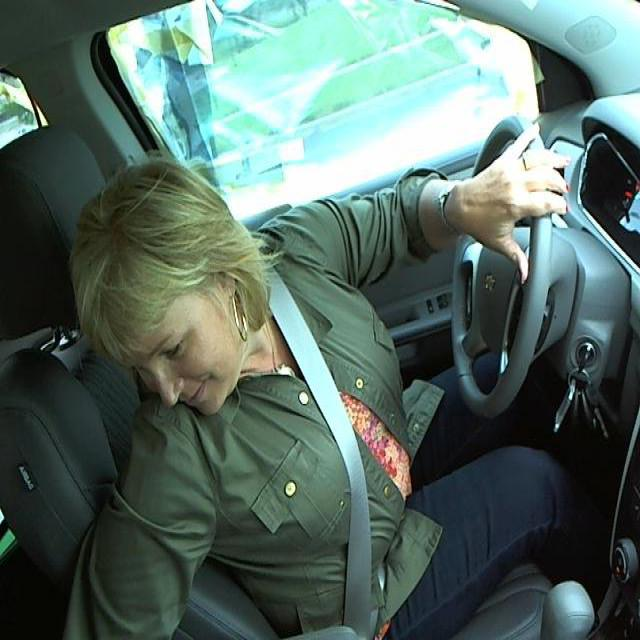seatbelt: (276, 308, 400, 620)
